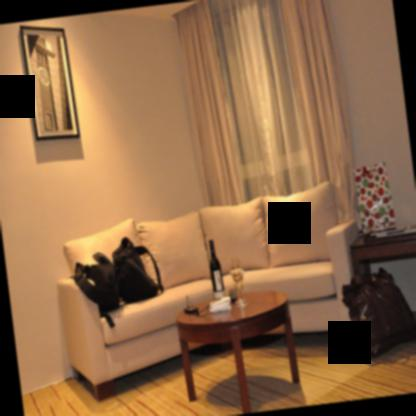backpack: (111, 237, 164, 303), (72, 260, 120, 329)
handbag: (111, 237, 162, 304), (73, 252, 118, 315)
